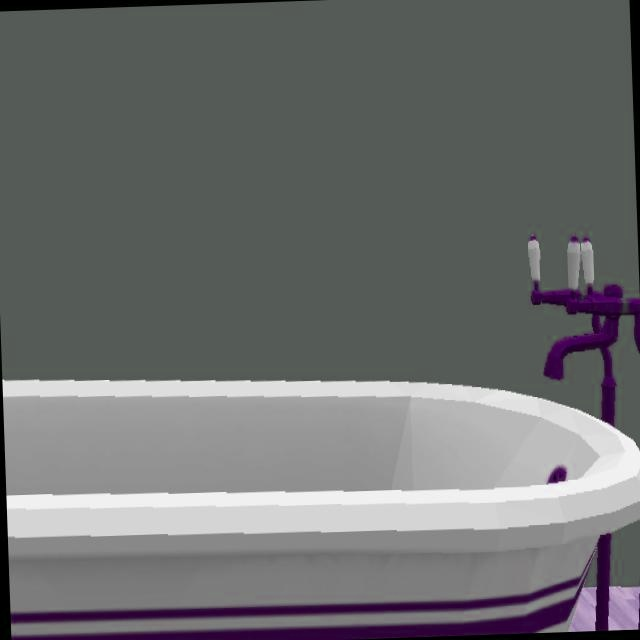bathtube: (2, 379, 640, 640)
